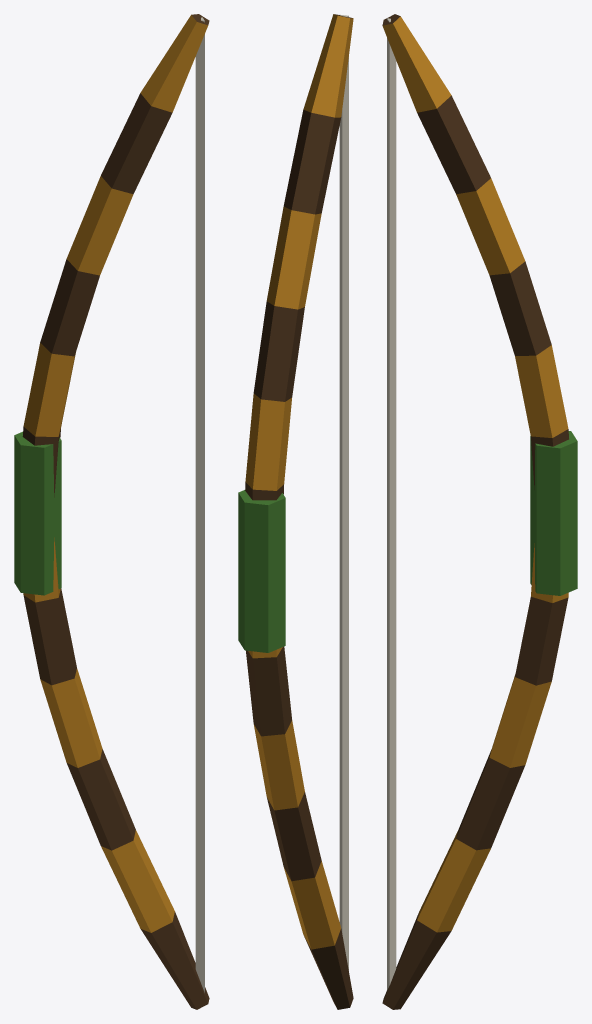
File: weapon_bow.glb
The picture shows the model from 3 angles, left to right: view 1: azimuth 90°, elevation 25°; view 2: azimuth 150°, elevation 25°; view 3: azimuth 270°, elevation 25°; orthographic projection.
Parts seen in each view (by area): view 1: treekin_weapon_bow; view 2: treekin_weapon_bow; view 3: treekin_weapon_bow.
Part boxes in pixels (<box>): treekin_weapon_bow: <box>14,14,209,1009</box>; treekin_weapon_bow: <box>238,14,353,1009</box>; treekin_weapon_bow: <box>382,14,577,1009</box>.
Bounding box in the file's own units: 0.0417 × 0.9681 × 0.1724.
